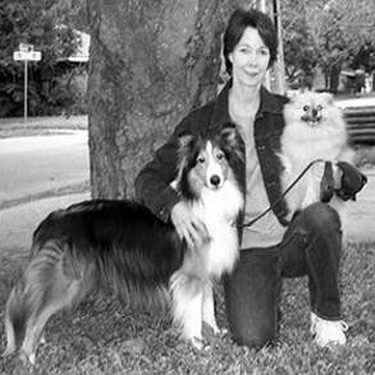dog: (4, 119, 259, 372), (274, 78, 358, 227)
